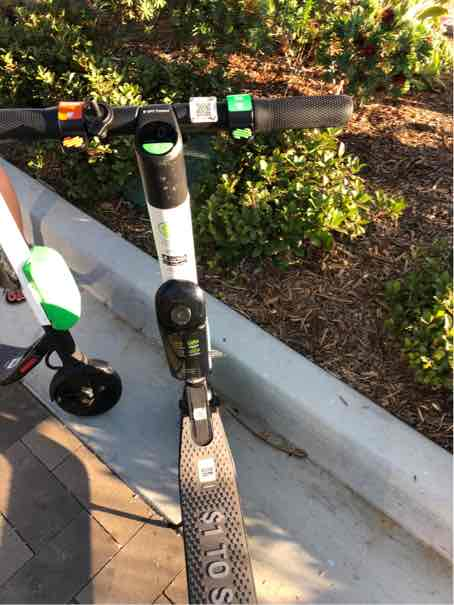scooter: (5, 71, 332, 605)
